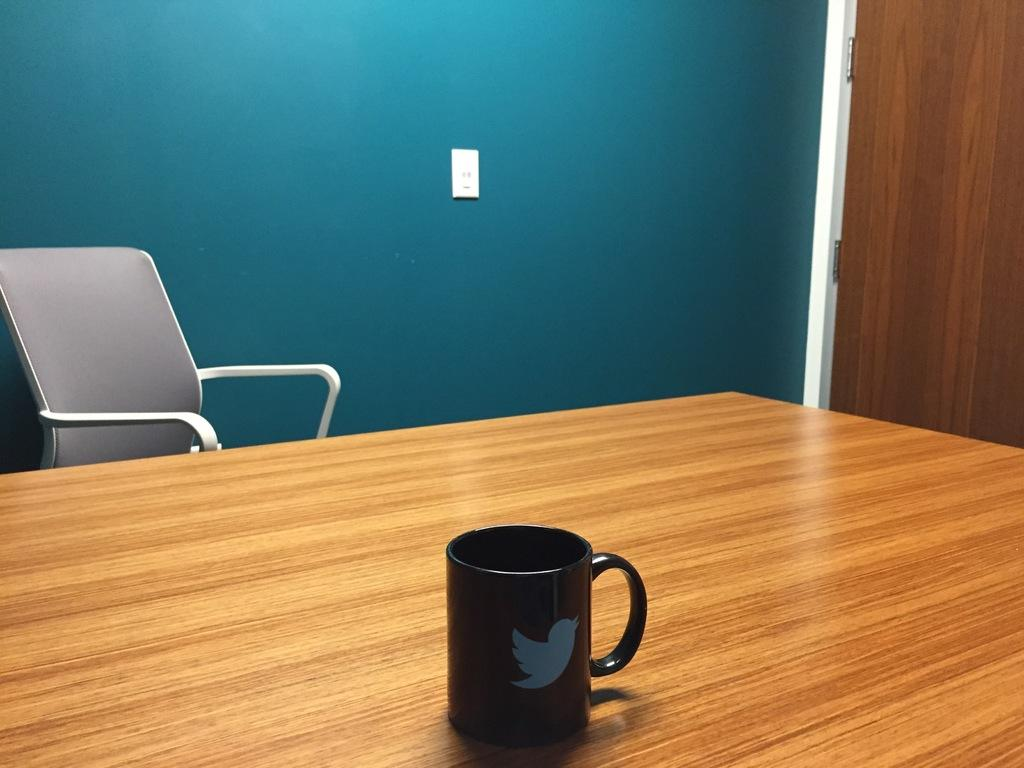Chair: (0, 244, 341, 470)
